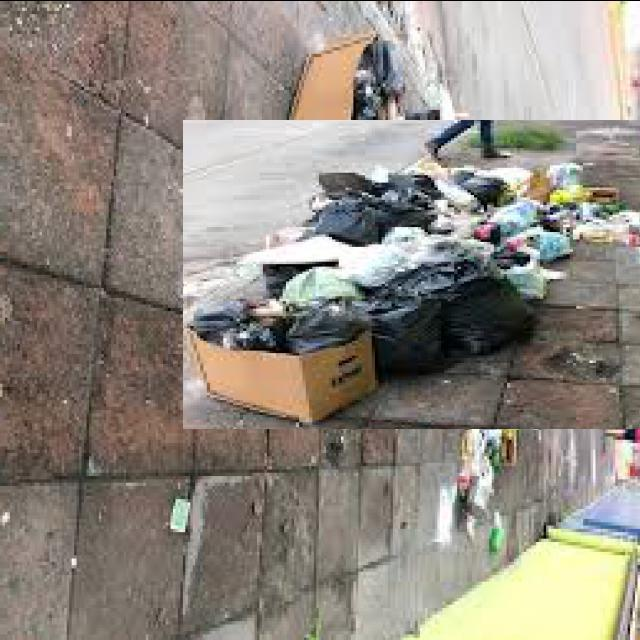Trashbag: (192, 294, 358, 352), (432, 263, 529, 349), (314, 174, 428, 242), (365, 301, 456, 369)
